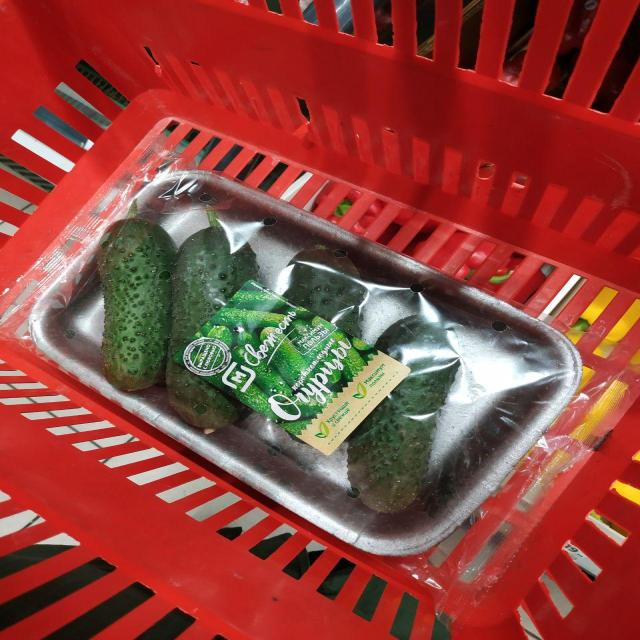cucumber: (210, 258, 640, 640), (182, 146, 542, 420), (113, 196, 302, 567), (81, 205, 249, 541)
